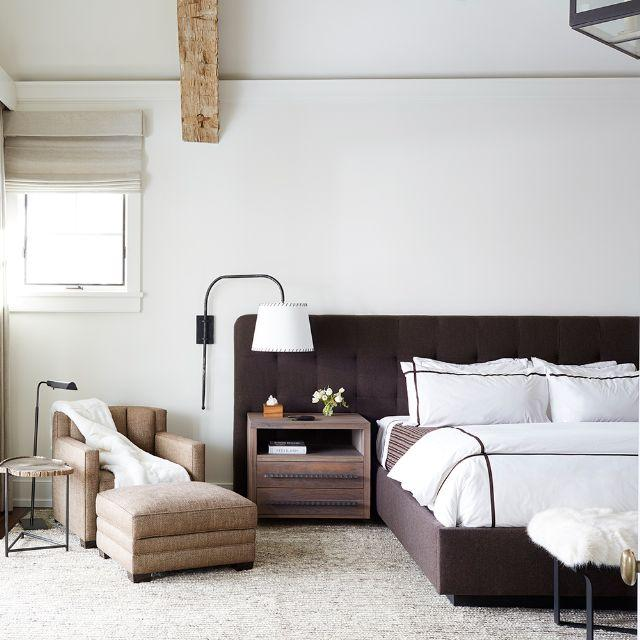bed: (382, 425, 640, 619)
lamp: (190, 269, 314, 409)
pillow: (400, 351, 547, 433), (537, 357, 640, 428)
sofa: (54, 399, 257, 584)
table: (250, 409, 371, 523)
window: (0, 103, 146, 312)
